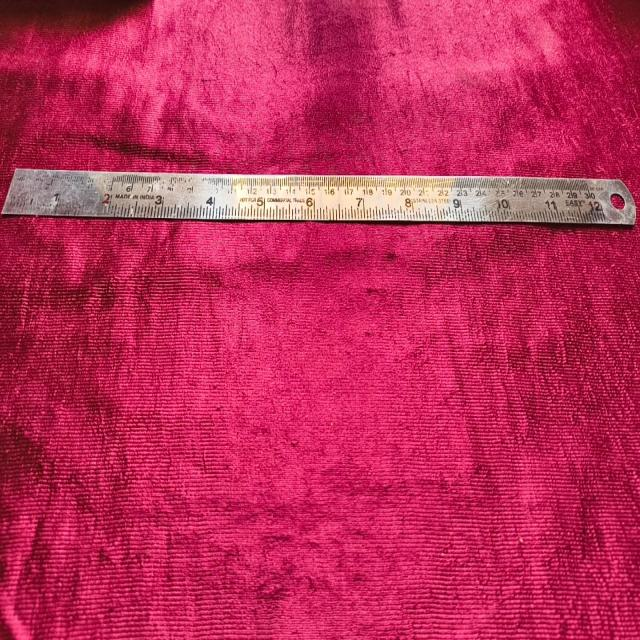scale: (0, 166, 640, 222)
